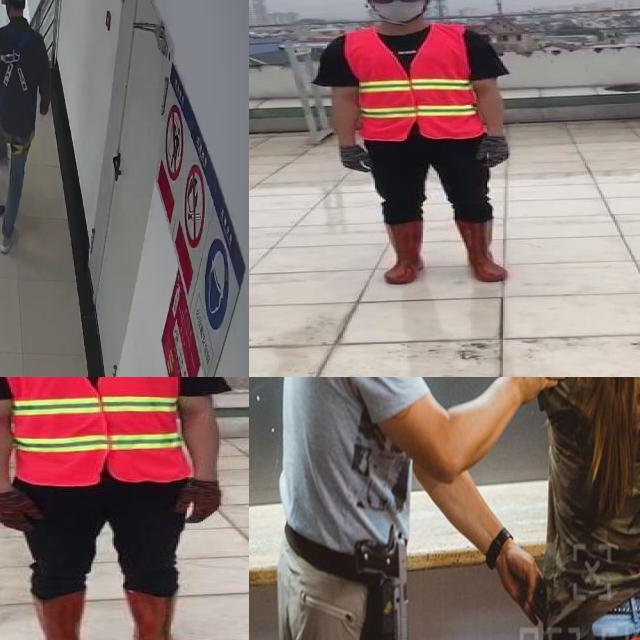Harness: (0, 25, 35, 129)
boots: (121, 589, 201, 640), (453, 220, 510, 284), (378, 221, 432, 283), (23, 593, 83, 640)
hand_glove: (175, 481, 222, 522), (0, 489, 39, 530)
person: (312, 0, 529, 287), (0, 377, 232, 640)
vest: (0, 377, 195, 484), (341, 22, 482, 141)
